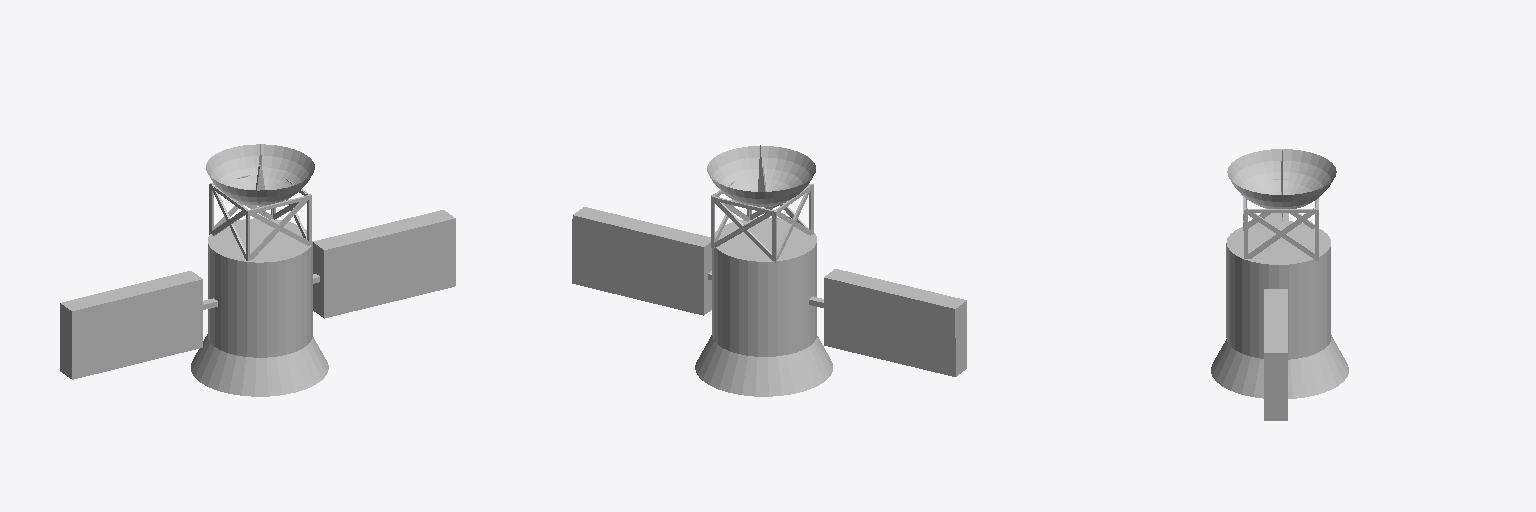
File: satelite.obj
3 views of the same model, side by side, from view 1: azimuth 30°, elevation 25°; view 2: azimuth 150°, elevation 25°; view 3: azimuth 270°, elevation 25° (orthographic).
Parts seen in each view (by area): view 1: Cube.001_Cube.002; view 2: Cube.001_Cube.002; view 3: Cube.001_Cube.002.
Part boxes in pixels (x1,y1,x2,y2): Cube.001_Cube.002: (60, 144, 455, 396); Cube.001_Cube.002: (572, 145, 966, 396); Cube.001_Cube.002: (1211, 149, 1348, 420).
Bounding box in the file's own units: 7.47 × 4.19 × 2.34.